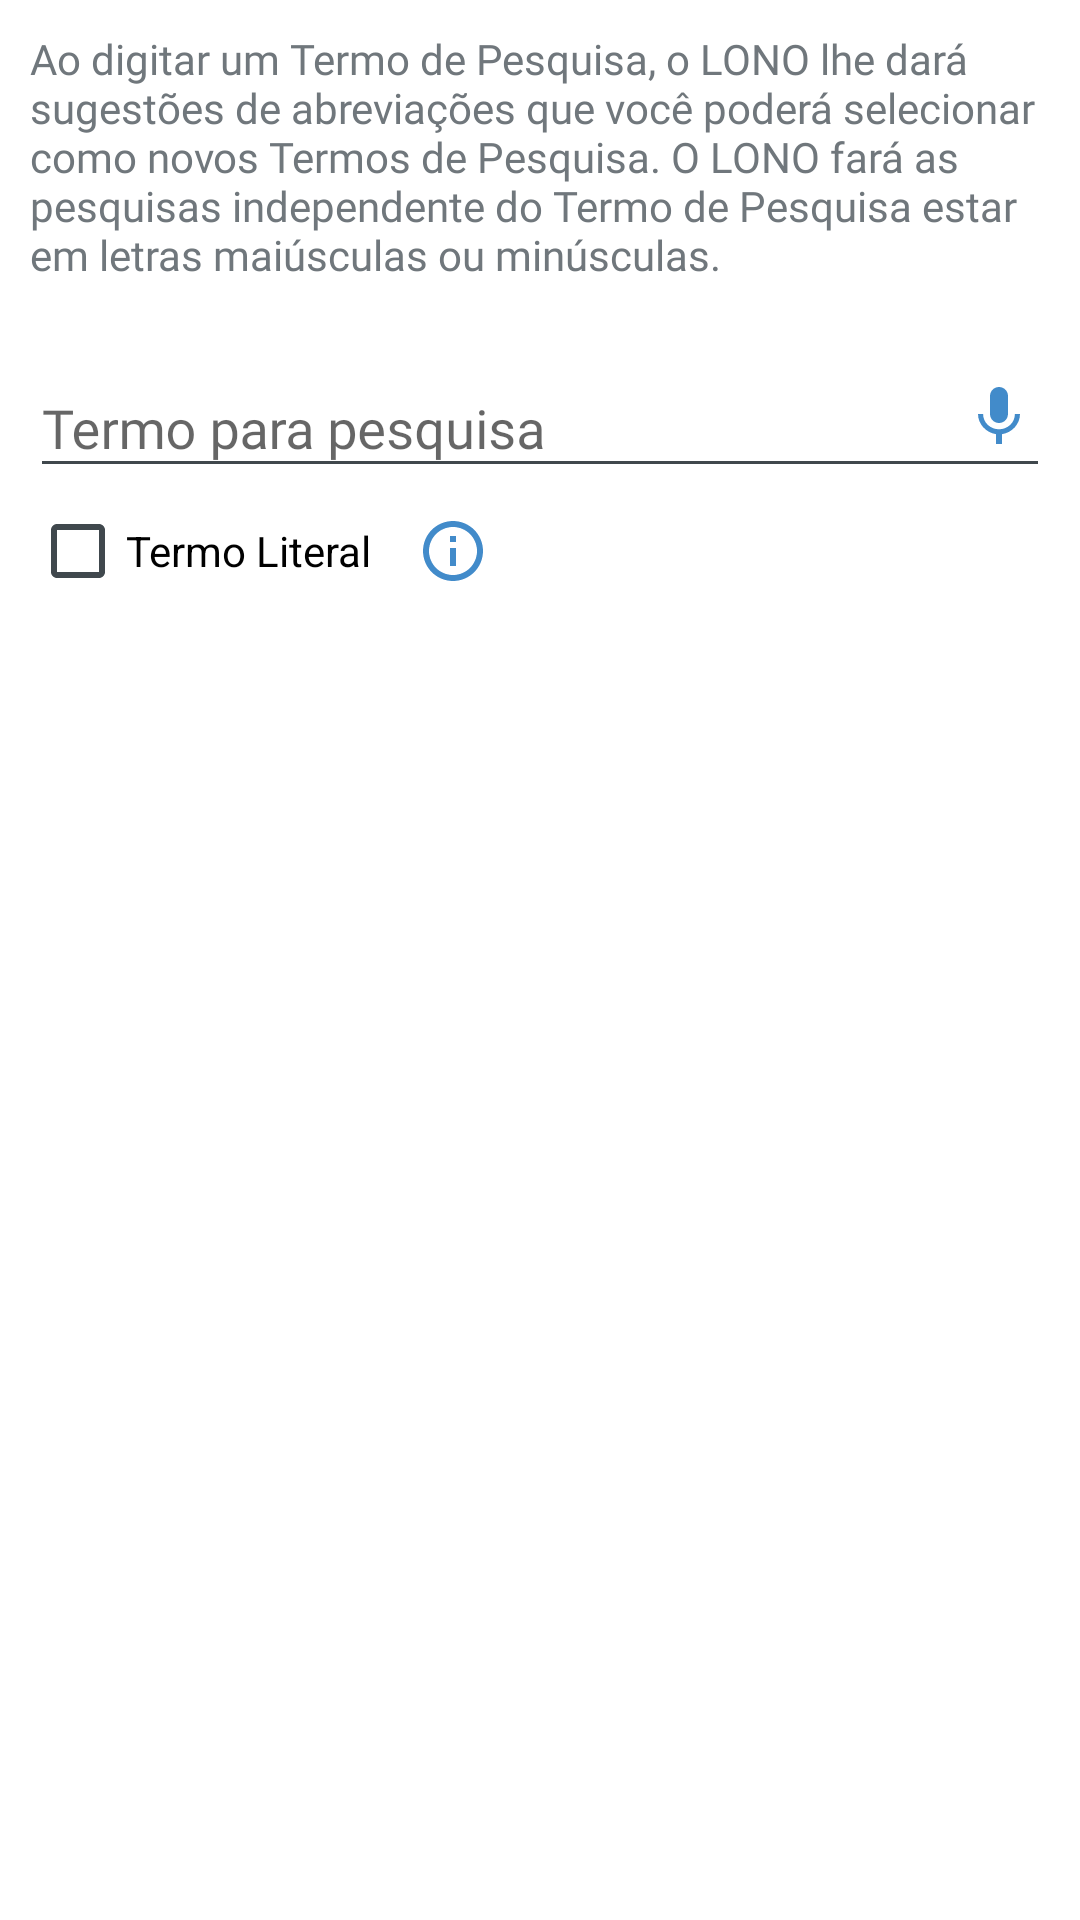

Locate icon controls on the screen. Image size 1080x1920, boxes as {"left": x1, "top": y1, "right": x2, "bottom": y2}.
info: {"left": 423, "top": 521, "right": 483, "bottom": 581}
mic: {"left": 978, "top": 387, "right": 1020, "bottom": 444}
